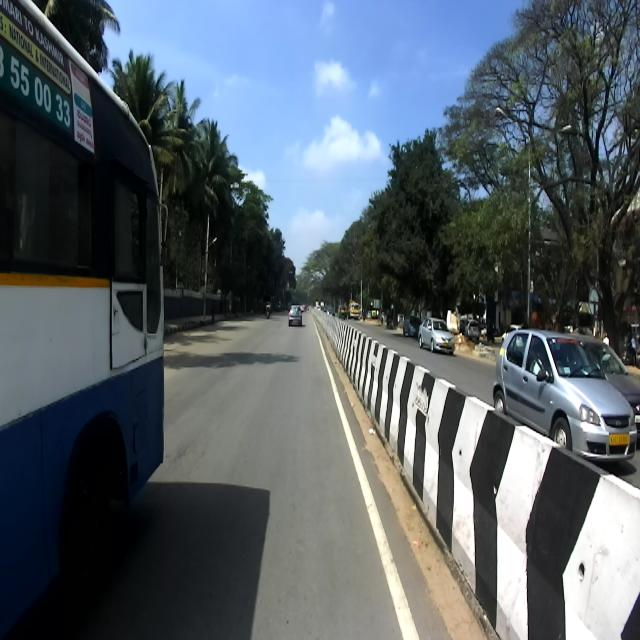bus ahead at: (0, 0, 171, 640)
car ahead at: (495, 322, 637, 468)
